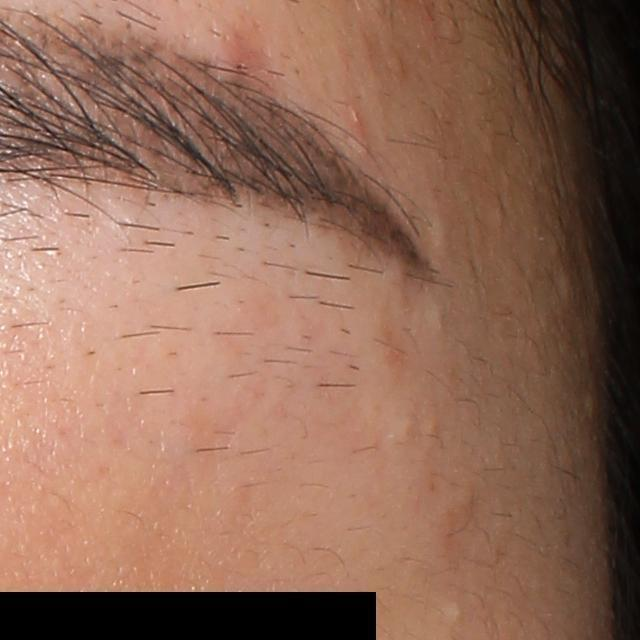comedo: (394, 419, 418, 438), (449, 602, 464, 622)
papule: (203, 28, 266, 90)
